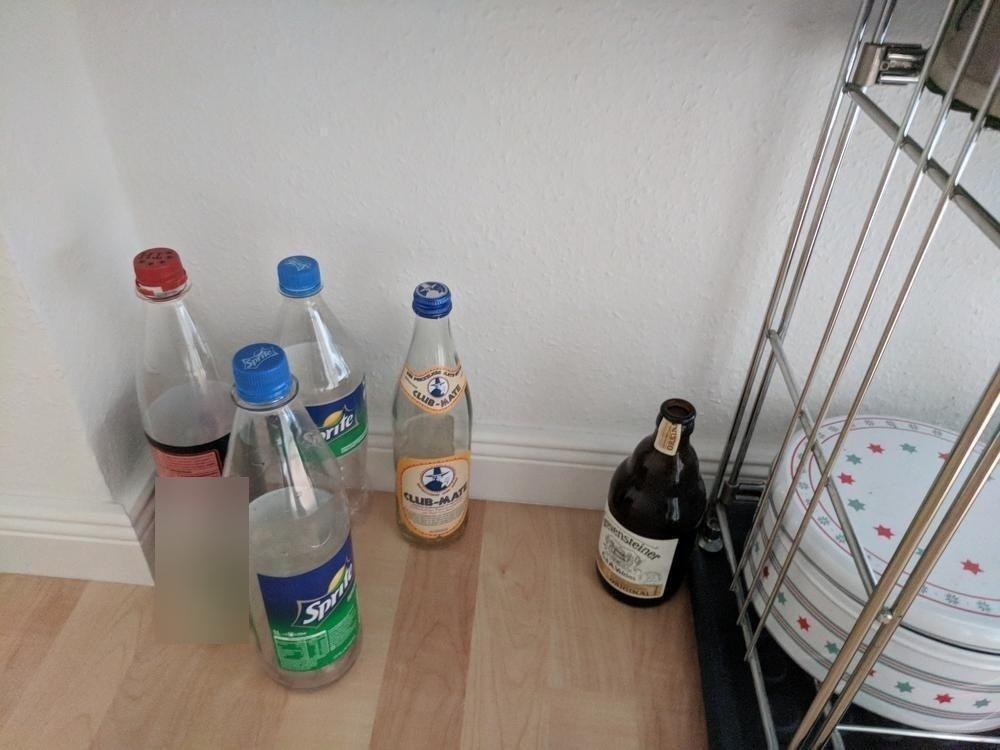bottle-glass: (594, 396, 708, 609), (390, 280, 477, 551)
bottle-plastic: (215, 341, 361, 689), (128, 245, 238, 515), (259, 253, 371, 518)
